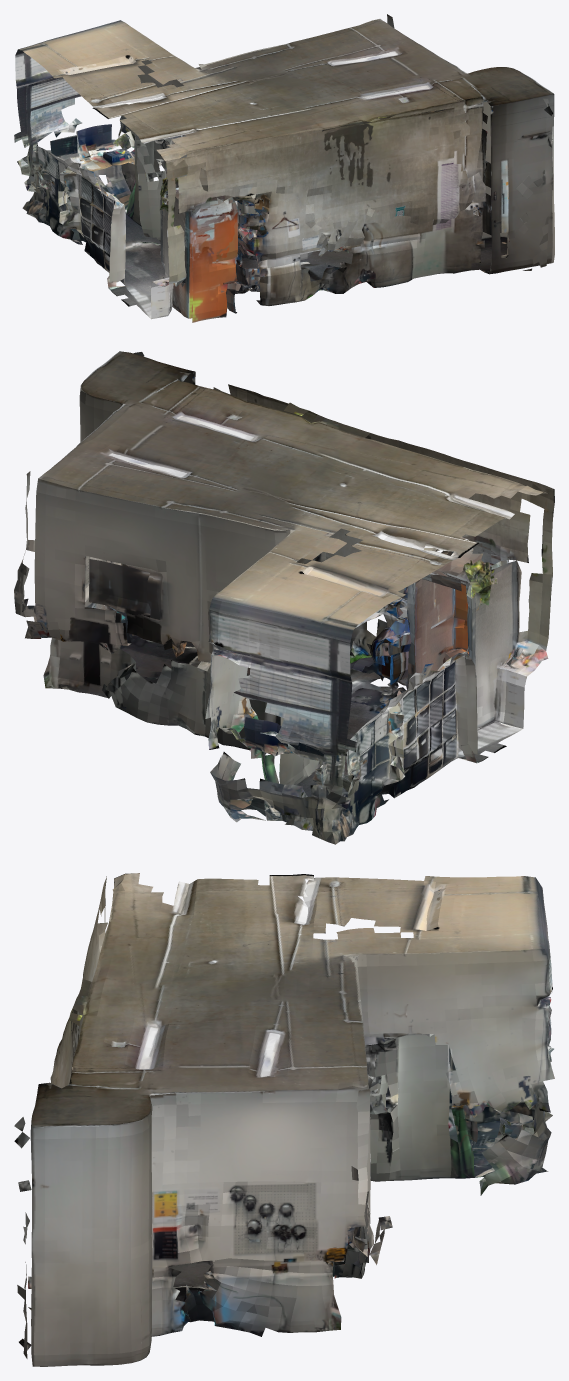
File: Office_part_2-IM.fbx
3 views of the same model, one above another, from view 1: azimuth 30°, elevation 25°; view 2: azimuth 150°, elevation 25°; view 3: azimuth 270°, elevation 25° (orthographic). The views are drawn at different scales.
Parts seen in each view (by area): view 1: Office_part_2-IM; view 2: Office_part_2-IM; view 3: Office_part_2-IM.
Part boxes in pixels (box(x1,y1,x2,y2)): Office_part_2-IM: box(14, 14, 554, 322); Office_part_2-IM: box(14, 351, 554, 844); Office_part_2-IM: box(14, 873, 554, 1366).
Size of the model in its own units: 698 by 329 by 636.
1 material, 1 textured.
